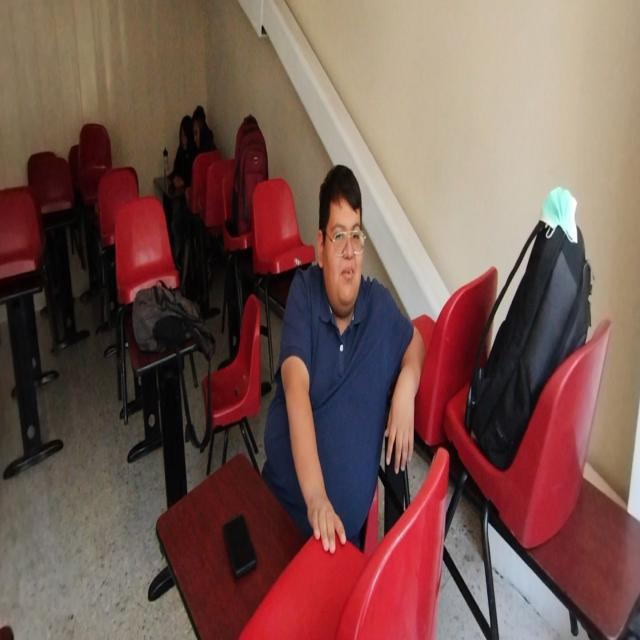adult: (264, 160, 424, 555)
